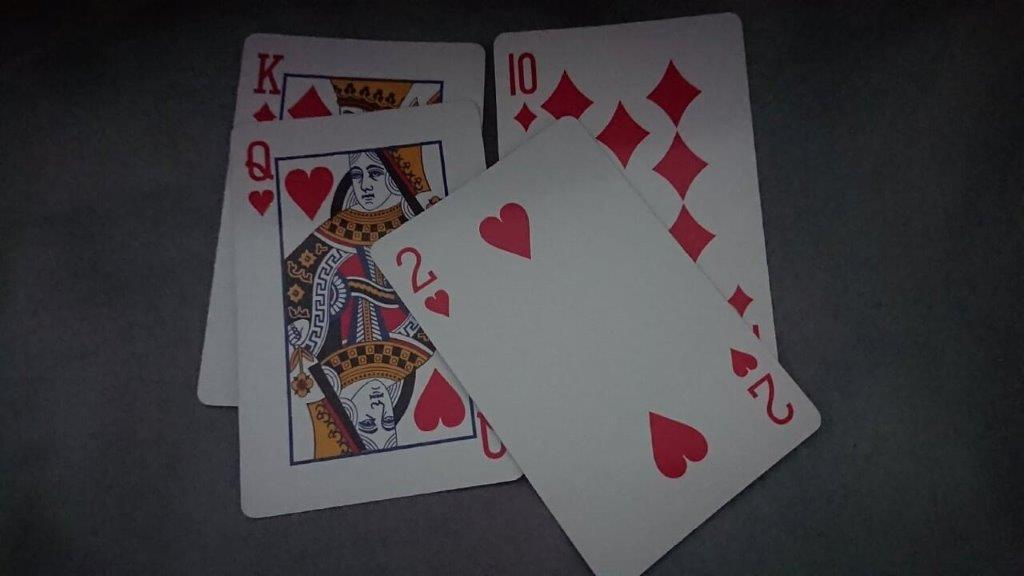10D: (496, 40, 547, 137)
2H: (385, 236, 462, 326)
KD: (245, 44, 291, 123)
QH: (237, 130, 285, 223)
